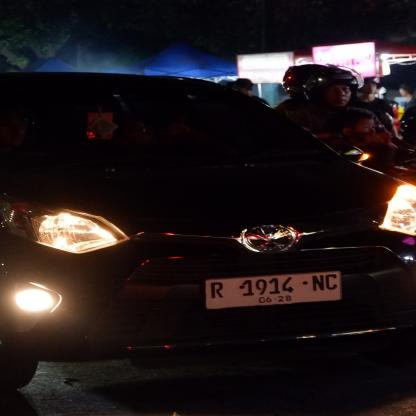Plat-Nomor: (198, 270, 351, 311)
